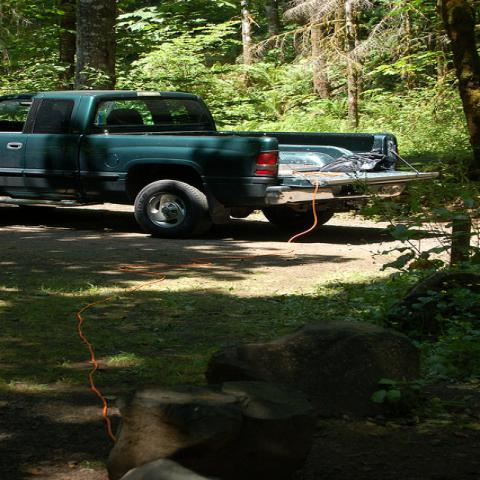truck: (0, 90, 442, 239)
